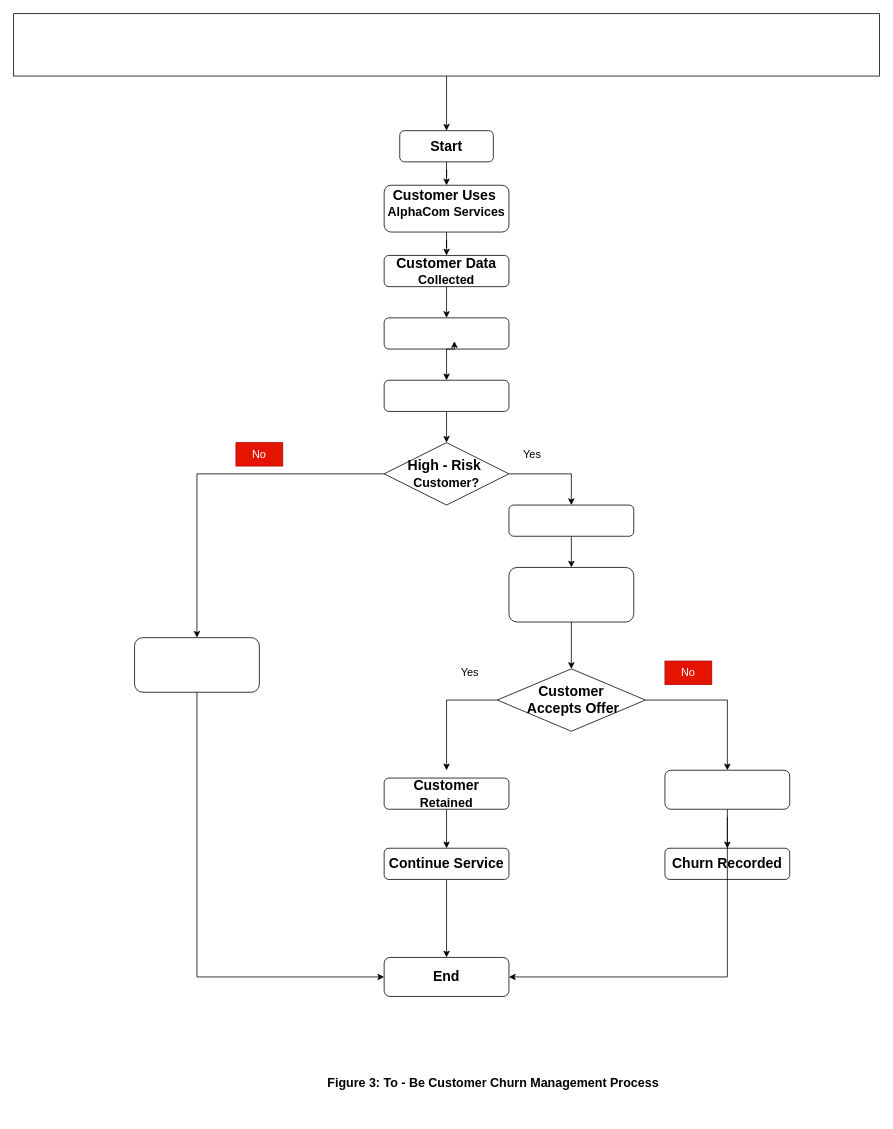
This 893x1129 diagram has some shape labels left out. Each missing label, with the centre of its shape:
"Continue Standard Service" belongs at (x=196, y=664).
"Customer Cancels Service" belongs at (x=727, y=789).
"Customer Churn Risk Identified" belongs at (x=446, y=333).
"Customer Risk Score Generated" belongs at (x=446, y=395).
"Customer Support Contacts Customer" belongs at (x=571, y=594).
"Retention Offer Generated" belongs at (x=571, y=520).
"TO-BE CUSTOMER CHURN MANAGEMENT PROCESS" belongs at (x=446, y=44).
